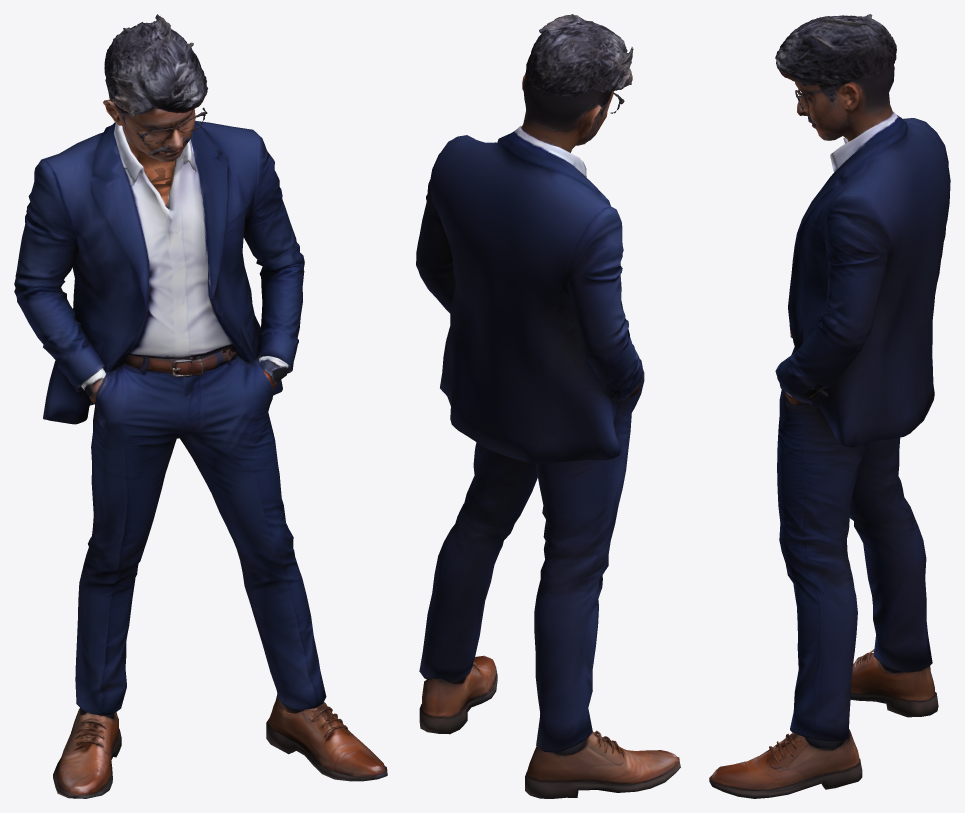
The model's file is about_future.glb.
3 renders of one model, left to right at view 1: azimuth 30°, elevation 25°; view 2: azimuth 150°, elevation 25°; view 3: azimuth 270°, elevation 25°, orthographic. The views are drawn at different scales.
Visible parts, largest first — view 1: tripo_node_6b0b5fc3; view 2: tripo_node_6b0b5fc3; view 3: tripo_node_6b0b5fc3.
Boxes of the visible parts, x1=… form: tripo_node_6b0b5fc3: x1=14, y1=14, x2=387, y2=798; tripo_node_6b0b5fc3: x1=416, y1=14, x2=680, y2=798; tripo_node_6b0b5fc3: x1=709, y1=14, x2=950, y2=798.
Bounding box in the file's own units: 0.461 × 1.2 × 0.3713.
Materials: 1 (1 with a texture image).
